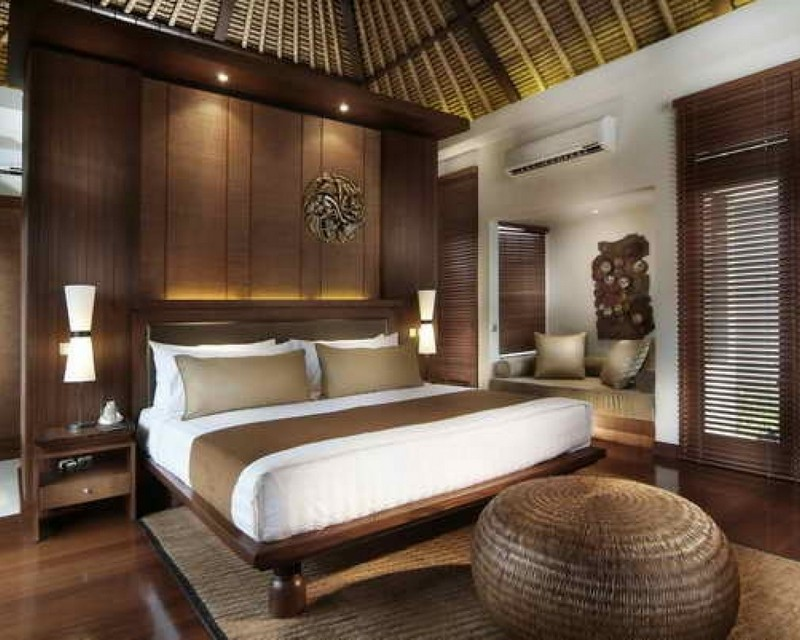bed: (130, 297, 605, 620)
lamp: (60, 278, 99, 432), (416, 287, 440, 357)
sofa: (489, 334, 659, 423)
table: (30, 423, 140, 543)
